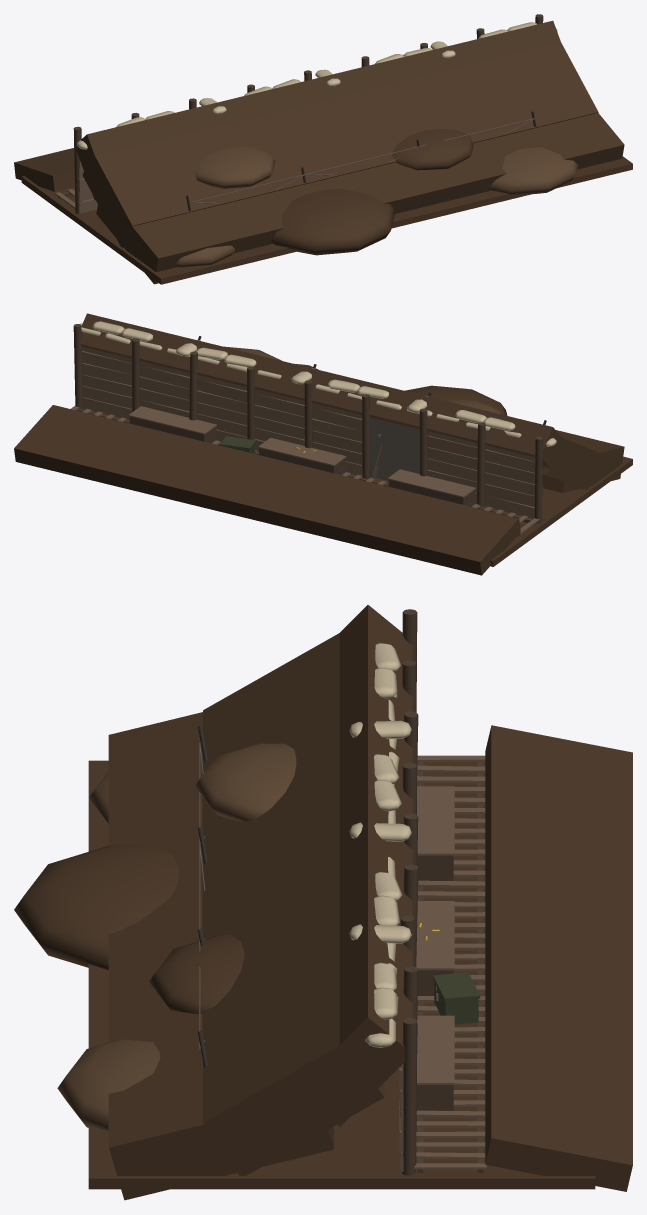
Rendered from perimeter-berm.glb.
The picture shows the model from 3 angles, top to bottom: view 1: azimuth 30°, elevation 25°; view 2: azimuth 150°, elevation 25°; view 3: azimuth 270°, elevation 25°; orthographic projection. The views are drawn at different scales.
Visible parts, largest first — view 1: Mesh_EarthFrontMid, Mesh_EarthFrontLow, Mesh_EarthFrontHigh, Mesh_EarthPile_1, Mesh_EarthBase, Mesh_EarthPile_0, Mesh_EarthPile_4, Mesh_EarthPile_3, Mesh_EarthRearSlope, Mesh_EarthPile_2, Mesh_RevPost_8; view 2: Mesh_EarthRearSlope, Mesh_EarthFrontHigh, Mesh_CorrugatedSheet, Mesh_EarthFrontLow, Mesh_EarthBase, Mesh_StepTrim_2, Mesh_StepTrim_0, Mesh_StepTrim_1, Mesh_EarthPile_1, Mesh_EarthFrontMid, Mesh_Step_1, Mesh_Step_0 (+38 smaller); view 3: Mesh_EarthRearSlope, Mesh_EarthFrontMid, Mesh_EarthFrontLow, Mesh_EarthFrontHigh, Mesh_EarthBase, Mesh_EarthPile_1, Mesh_EarthPile_4, Mesh_EarthPile_0, Mesh_EarthPile_3, Mesh_StepTrim_0, Mesh_StepTrim_1, Mesh_StepTrim_2 (+6 smaller).
Part boxes in pixels (box(x1,y1,x2,y2)): Mesh_EarthFrontMid: box(82, 42, 598, 247); Mesh_EarthFrontLow: box(96, 113, 624, 284); Mesh_EarthFrontHigh: box(76, 20, 560, 200); Mesh_EarthPile_1: box(271, 189, 395, 255); Mesh_EarthBase: box(21, 156, 632, 284); Mesh_EarthPile_0: box(489, 147, 578, 195); Mesh_EarthPile_4: box(195, 146, 275, 188); Mesh_EarthPile_3: box(392, 128, 473, 170); Mesh_EarthRearSlope: box(14, 148, 74, 191); Mesh_EarthPile_2: box(176, 245, 235, 267); Mesh_RevPost_8: box(73, 126, 82, 214); Mesh_EarthRearSlope: box(14, 405, 520, 575); Mesh_EarthFrontHigh: box(80, 313, 572, 481); Mesh_CorrugatedSheet: box(370, 417, 419, 480); Mesh_EarthFrontLow: box(542, 430, 624, 492); Mesh_EarthBase: box(83, 408, 632, 566); Mesh_StepTrim_2: box(387, 469, 475, 497); Mesh_StepTrim_0: box(128, 406, 216, 434); Mesh_StepTrim_1: box(258, 437, 346, 466); Mesh_EarthPile_1: box(404, 385, 507, 415); Mesh_EarthFrontMid: box(542, 436, 598, 489); Mesh_Step_1: box(259, 448, 345, 474); Mesh_Step_0: box(129, 416, 215, 443); Mesh_EarthRearSlope: box(485, 725, 632, 1191); Mesh_EarthFrontMid: box(203, 633, 384, 1175); Mesh_EarthFrontLow: box(108, 712, 333, 1200); Mesh_EarthFrontHigh: box(295, 605, 412, 1126); Mesh_EarthBase: box(88, 760, 595, 1189); Mesh_EarthPile_1: box(14, 844, 178, 969); Mesh_EarthPile_4: box(195, 743, 296, 821); Mesh_EarthPile_0: box(57, 1039, 160, 1131); Mesh_EarthPile_3: box(149, 934, 244, 1013); Mesh_StepTrim_0: box(417, 1015, 454, 1084); Mesh_StepTrim_1: box(416, 901, 454, 970); Mesh_StepTrim_2: box(417, 786, 454, 855).
Bounding box in the file's own units: 8.31 × 1.72 × 5.13.
